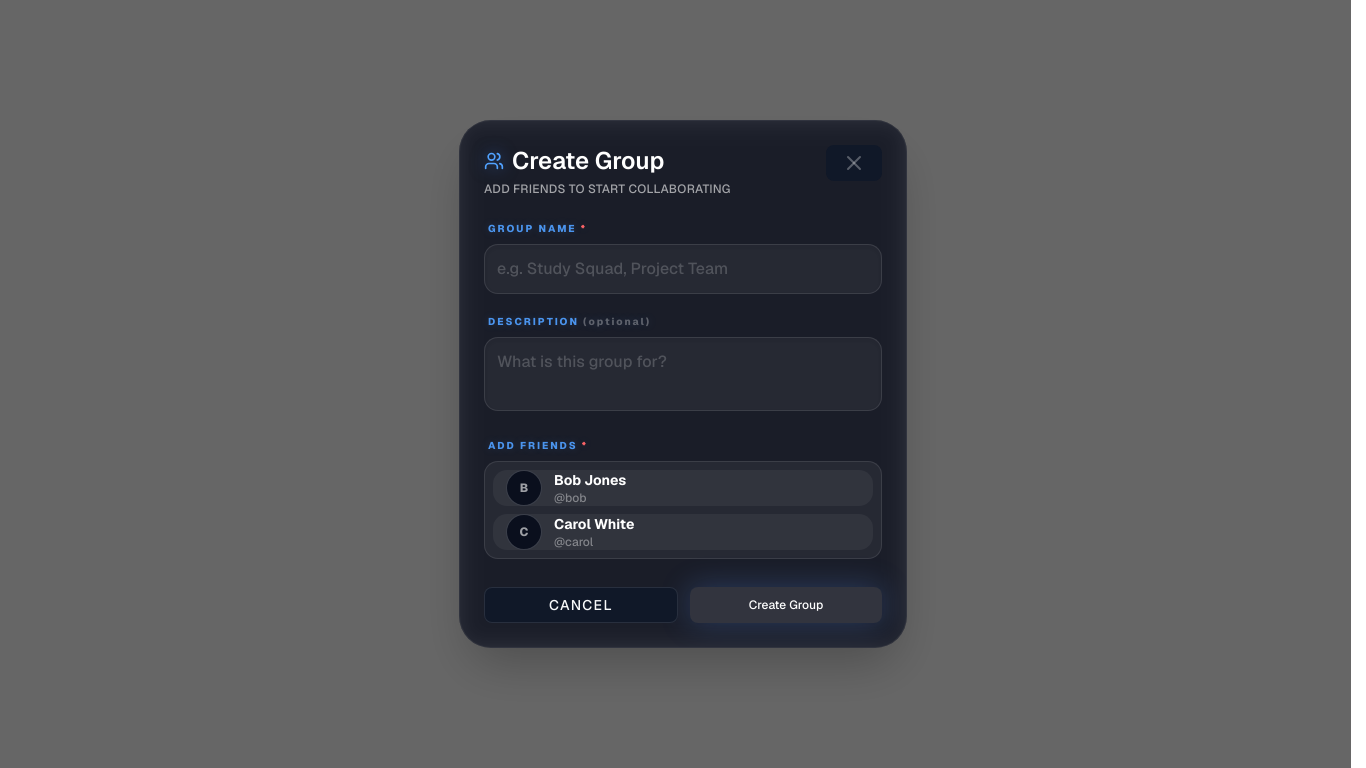
Scenario: CreateGroup Component › shows server error when createGroup fails
Check: the text "Bob Jones" is shown, box left=554, top=471, right=626, bottom=489
Type "My Group" into the field with placeholder "e.g. Study Squad, Project Team" at (683, 269), box left=484, top=244, right=882, bottom=294
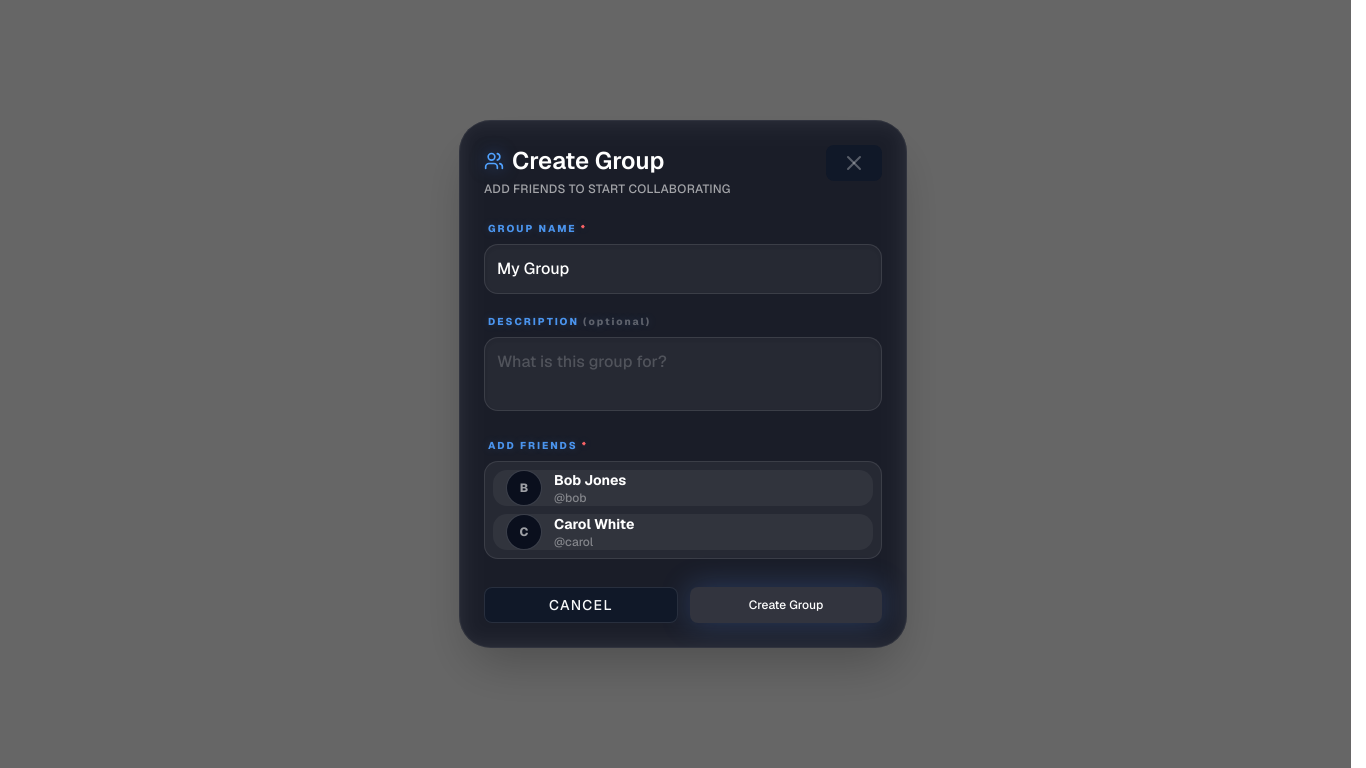
Click the text "Bob Jones" at (590, 480), box left=554, top=471, right=626, bottom=489
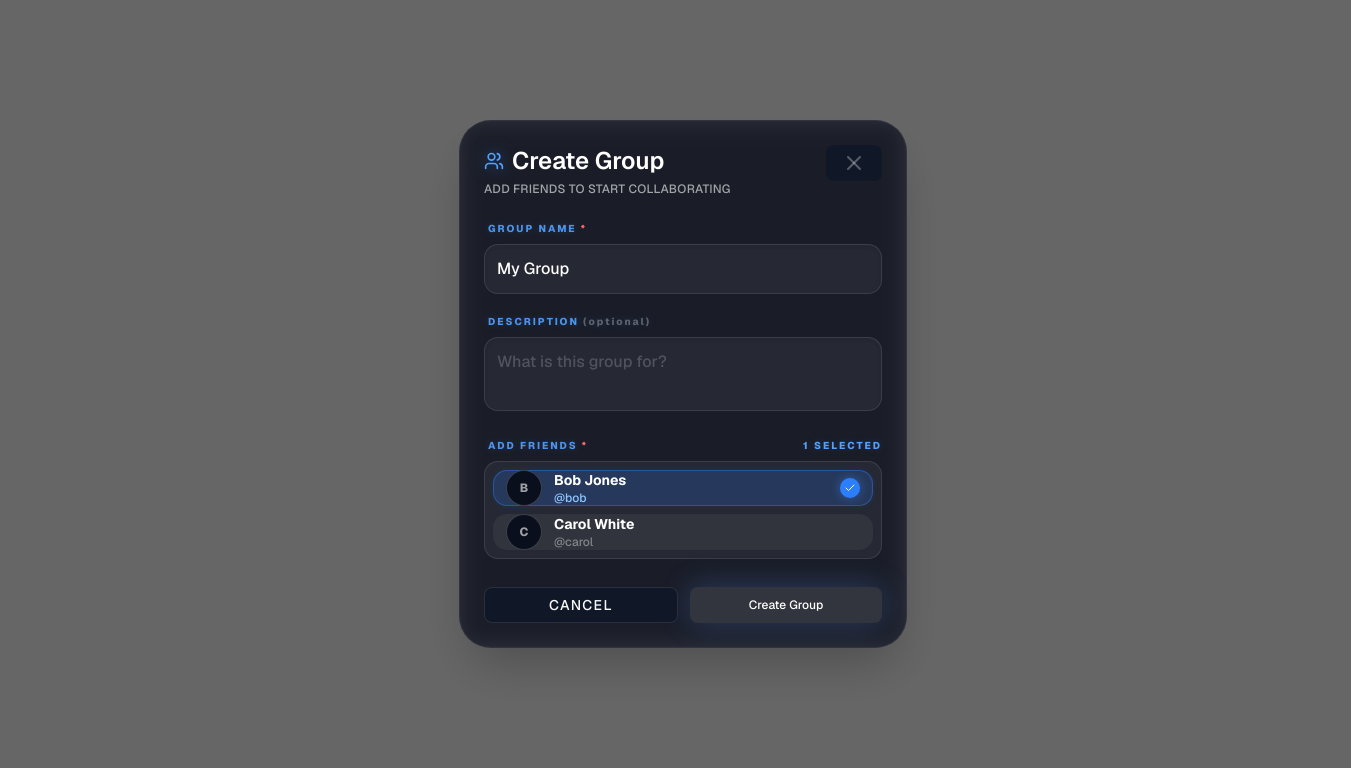
Click the button "Create Group" at (786, 605), box left=690, top=587, right=882, bottom=623
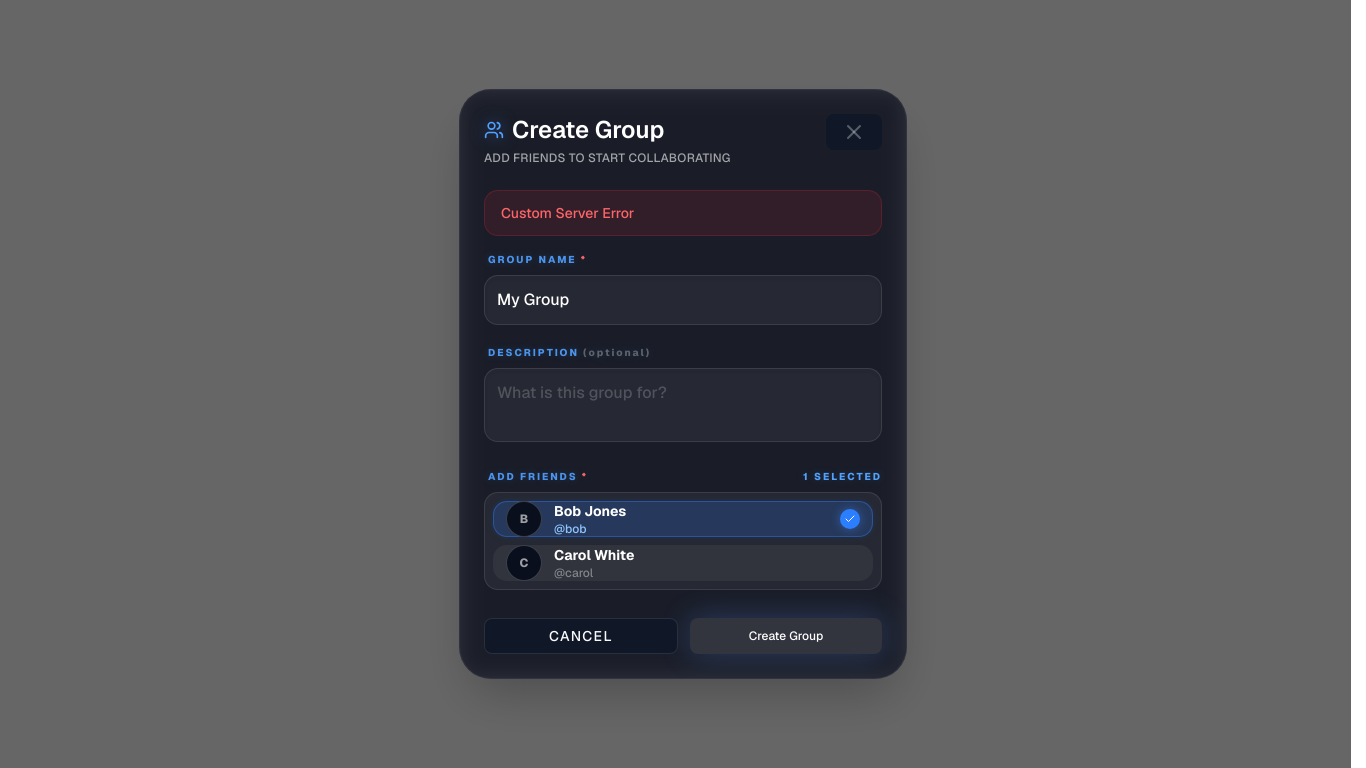
Check: the text "Custom Server Error" is shown, box left=484, top=190, right=882, bottom=236
